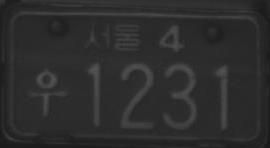1: (208, 62, 239, 131), (79, 60, 110, 128)
2: (116, 60, 156, 131)
3: (161, 61, 199, 131)
4: (157, 22, 185, 52)
서울_O: (81, 22, 143, 52)
우: (27, 67, 67, 117)
